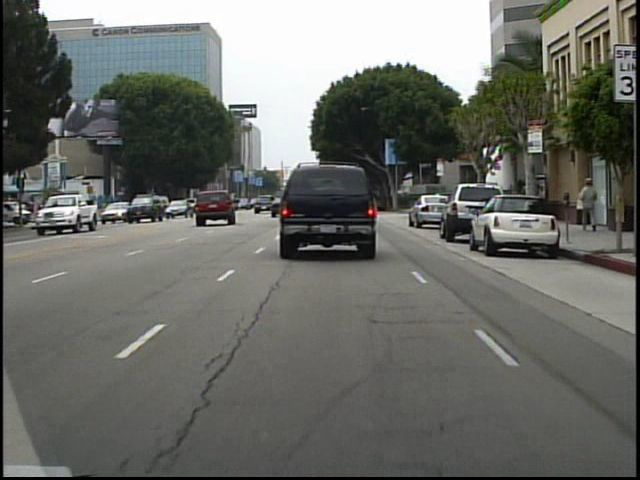person: (574, 174, 600, 237), (471, 177, 489, 220), (43, 198, 59, 226)
